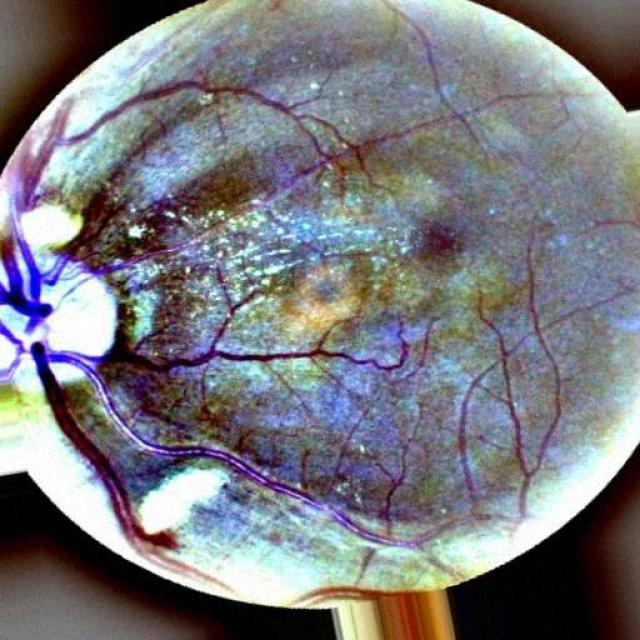Macula: (418, 218, 463, 267)
Nerves: (0, 79, 416, 549), (456, 231, 560, 518)
Optic Disk: (0, 252, 116, 384)
